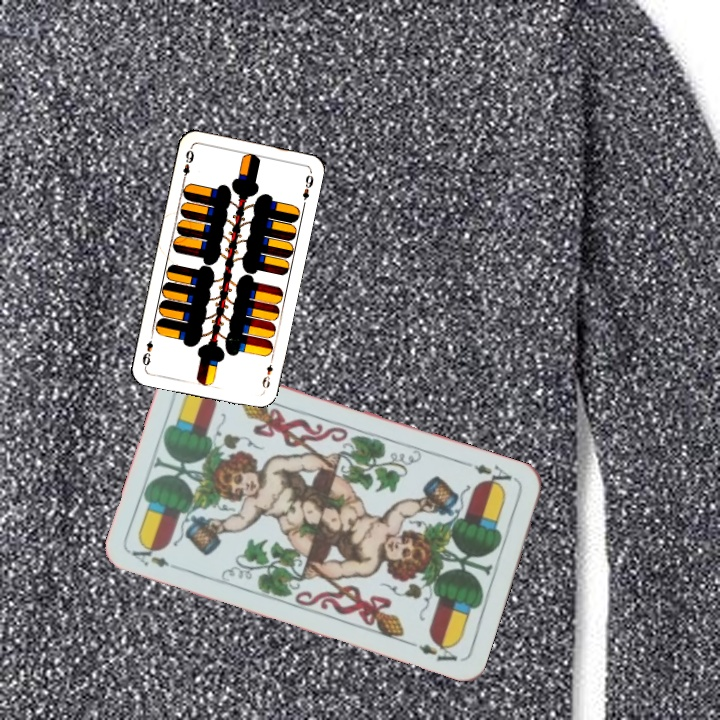E9: (179, 146, 197, 184), (258, 360, 275, 394)
EA: (461, 459, 519, 491), (128, 539, 172, 570)
